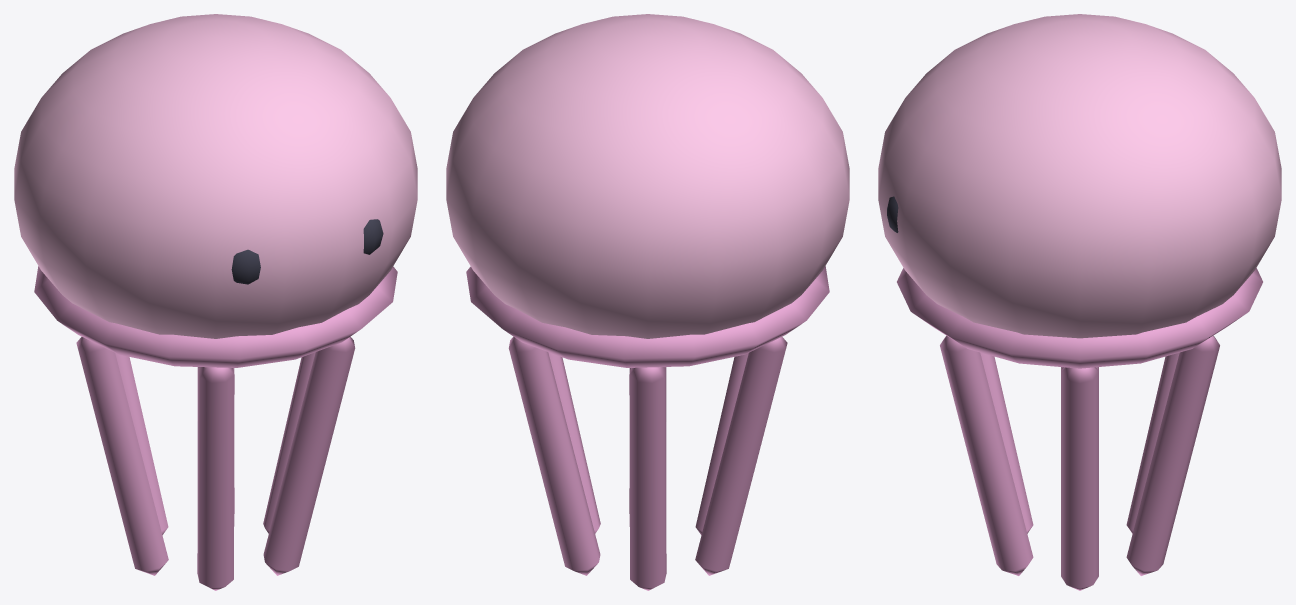
File: jellyfish.glb
3 views of the same model, side by side, from view 1: azimuth 30°, elevation 25°; view 2: azimuth 150°, elevation 25°; view 3: azimuth 270°, elevation 25° (orthographic).
Visible parts, largest first — view 1: Bell, Rim, Tentacle1, Tentacle3, Tentacle2, Tentacle4, Tentacle0, EyeRight, EyeLeft; view 2: Bell, Rim, Tentacle5, Tentacle3, Tentacle4, Tentacle2, Tentacle0; view 3: Bell, Rim, Tentacle1, Tentacle5, Tentacle0, Tentacle2, Tentacle4.
Boxes of the visible parts, left/top/right/bottom form: Bell: left=14, top=14, right=417, bottom=338; Rim: left=34, top=266, right=397, bottom=367; Tentacle1: left=263, top=336, right=355, bottom=575; Tentacle3: left=76, top=337, right=168, bottom=575; Tentacle2: left=197, top=367, right=234, bottom=590; Tentacle4: left=115, top=353, right=168, bottom=534; Tentacle0: left=263, top=352, right=315, bottom=533; EyeRight: left=231, top=249, right=260, bottom=284; EyeLeft: left=363, top=219, right=383, bottom=254; Bell: left=446, top=14, right=849, bottom=338; Rim: left=466, top=266, right=829, bottom=367; Tentacle5: left=508, top=336, right=600, bottom=575; Tentacle3: left=695, top=337, right=787, bottom=575; Tentacle4: left=629, top=367, right=666, bottom=590; Tentacle2: left=695, top=353, right=748, bottom=534; Tentacle0: left=548, top=352, right=600, bottom=533; Bell: left=878, top=14, right=1281, bottom=338; Rim: left=897, top=268, right=1262, bottom=368; Tentacle1: left=940, top=335, right=1033, bottom=575; Tentacle5: left=1126, top=335, right=1219, bottom=575; Tentacle0: left=1061, top=367, right=1098, bottom=590; Tentacle2: left=980, top=352, right=1033, bottom=533; Tentacle4: left=1126, top=352, right=1179, bottom=533.
Size of the model in its own units: 0.76 by 1.07 by 0.7485.
